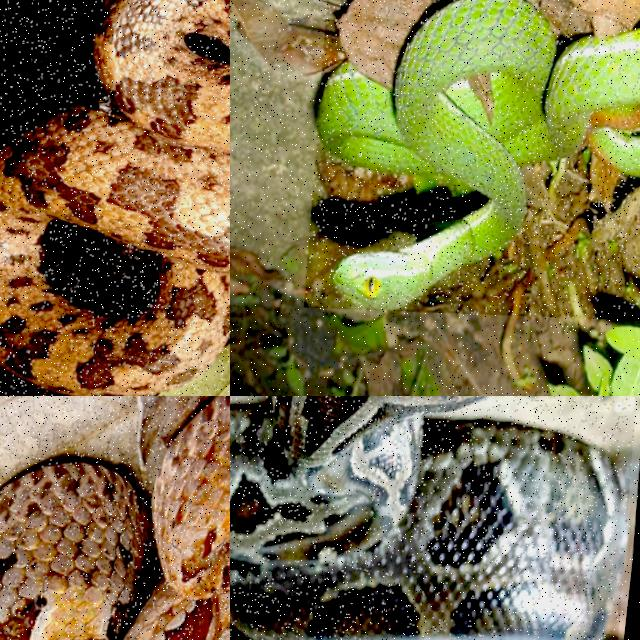Calloselasma rhodostoma: (0, 396, 229, 639)
Ovophis monticola: (0, 0, 229, 395)
Python bivittatus: (230, 396, 626, 639)
Trimeresurus: (317, 0, 639, 309)
snake: (317, 0, 639, 309), (230, 396, 626, 639), (0, 0, 229, 395), (0, 396, 229, 639)
